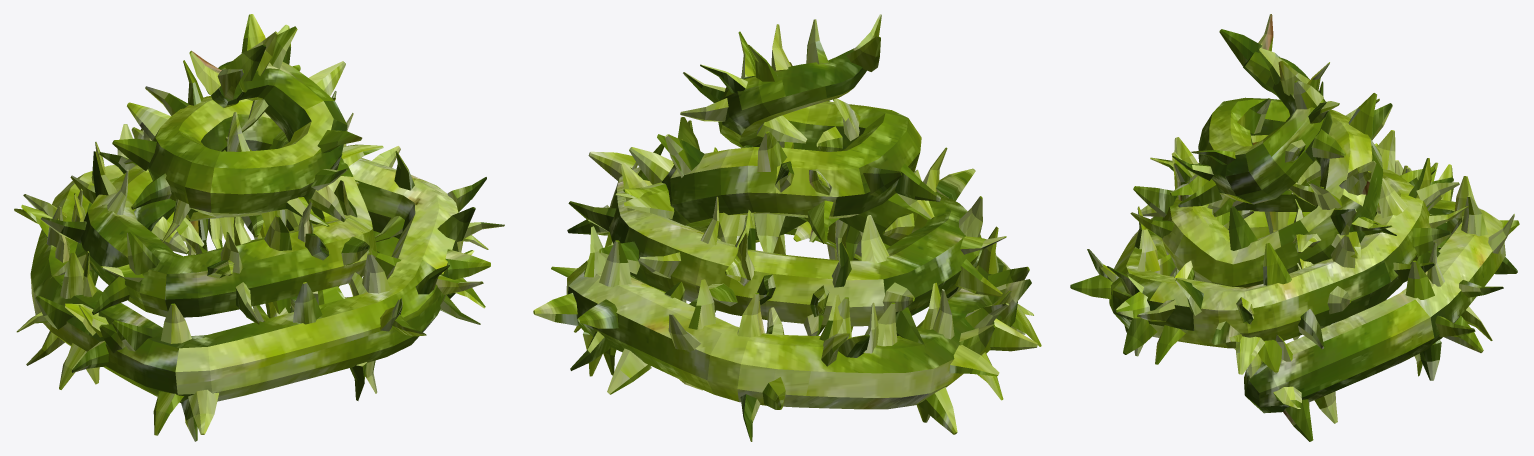
The model's file is tappura2.fbx.
3 renders of one model, left to right at view 1: azimuth 30°, elevation 25°; view 2: azimuth 150°, elevation 25°; view 3: azimuth 270°, elevation 25°, orthographic. The views are drawn at different scales.
Visible parts, largest first — view 1: BezierCurve.003; view 2: BezierCurve.003; view 3: BezierCurve.003.
Boxes of the visible parts, x1,y1,x2,y2 form: BezierCurve.003: (14, 14, 504, 441); BezierCurve.003: (533, 14, 1041, 441); BezierCurve.003: (1070, 14, 1519, 441).
Bounding box in the file's own units: 230 × 171 × 219.
